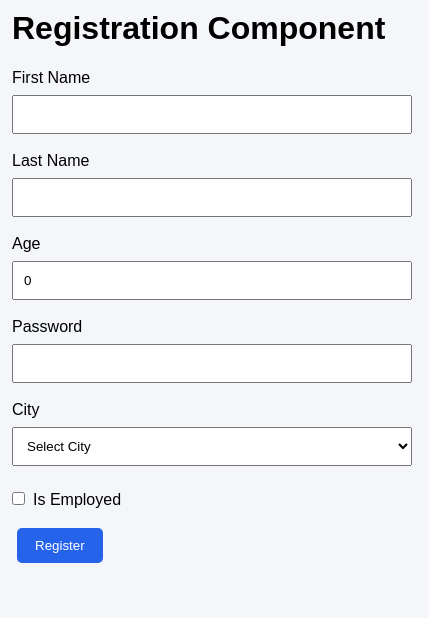
it: Registration Component › displays validation error on empty submission
What coordinates should you click on to do the following:
click the button "Register"
I would click on:
 (60, 545)
Its box is [17,528,103,563].
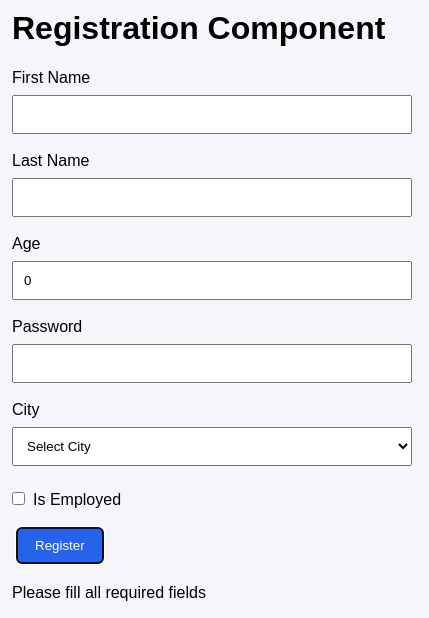
expect the text "Please fill all required fields" is shown: met, box [12,584,206,601]
